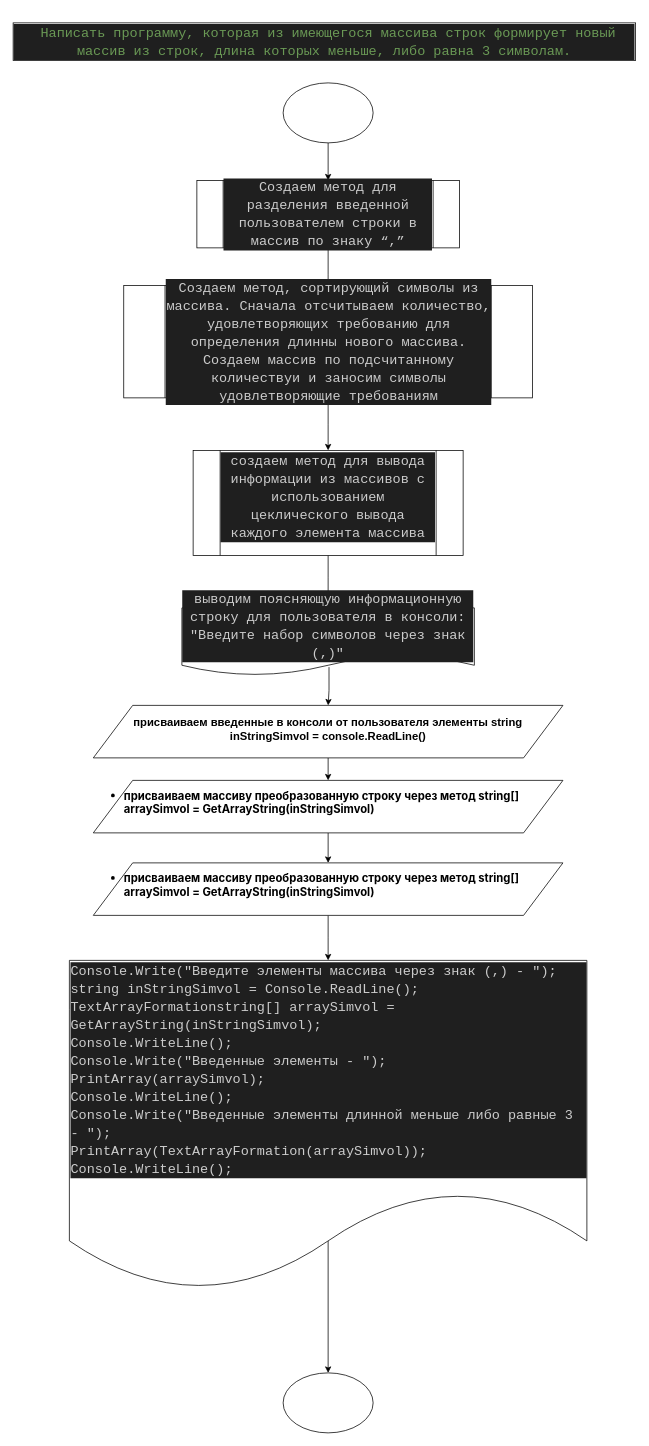
The diagram is 649 pixels wide and 1446 high, and some of its shapes have lost their labels. Here are the shapes that lost their labels. From the top down, the box of each, then its label:
(282, 82, 373, 143): START
(282, 1372, 373, 1433): END
